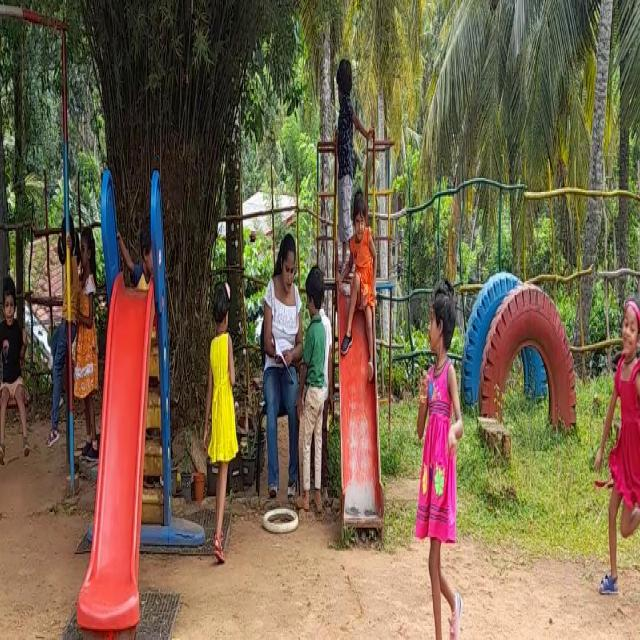adult: (258, 232, 302, 514)
child: (414, 279, 468, 640), (601, 281, 640, 592), (201, 267, 242, 553), (0, 253, 33, 474), (302, 259, 331, 506), (342, 208, 376, 396), (52, 196, 78, 428), (79, 213, 104, 438), (326, 51, 360, 196)
